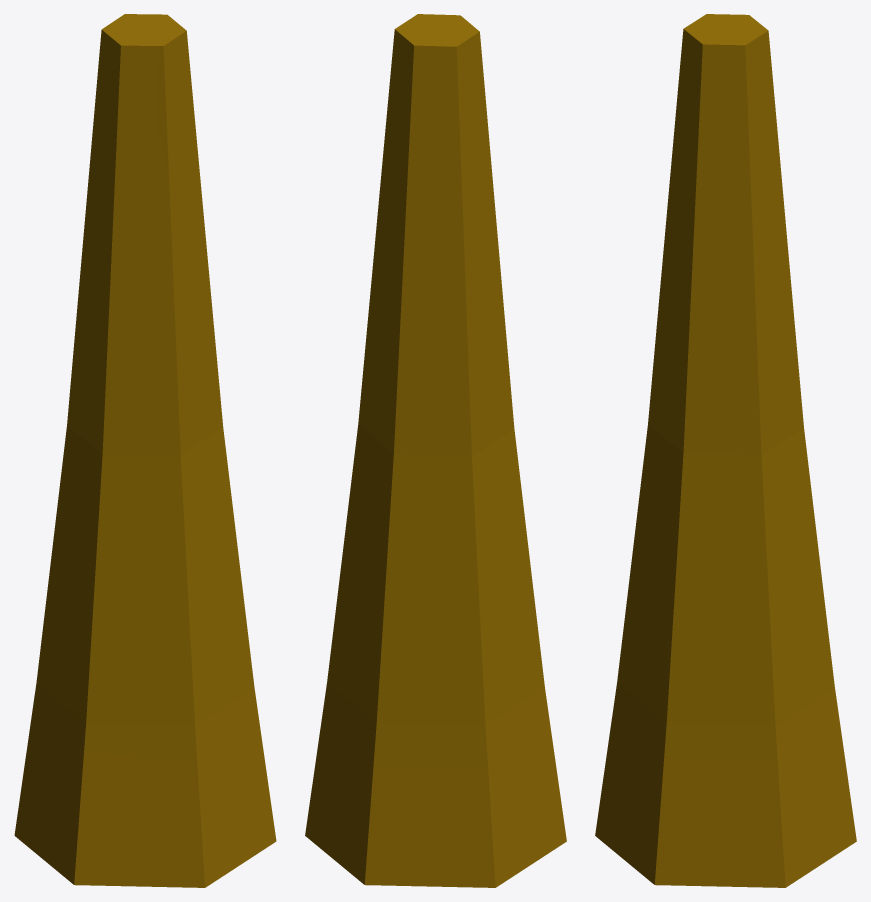
Rendered from Vegetation_Modular_Tree_Trunk_Alpine_03.fbx.
The picture shows the model from 3 angles, left to right: view 1: azimuth 30°, elevation 25°; view 2: azimuth 150°, elevation 25°; view 3: azimuth 270°, elevation 25°; orthographic projection.
Visible parts, largest first — view 1: Vegetation_Modular_Tree_Trunk_Alpine_03; view 2: Vegetation_Modular_Tree_Trunk_Alpine_03; view 3: Vegetation_Modular_Tree_Trunk_Alpine_03.
Boxes of the visible parts, x1,y1,x2,y2 form: Vegetation_Modular_Tree_Trunk_Alpine_03: (14, 14, 276, 887); Vegetation_Modular_Tree_Trunk_Alpine_03: (305, 14, 566, 887); Vegetation_Modular_Tree_Trunk_Alpine_03: (595, 14, 856, 887).
Size of the model in its own units: 22.38 by 85.5 by 25.09.
